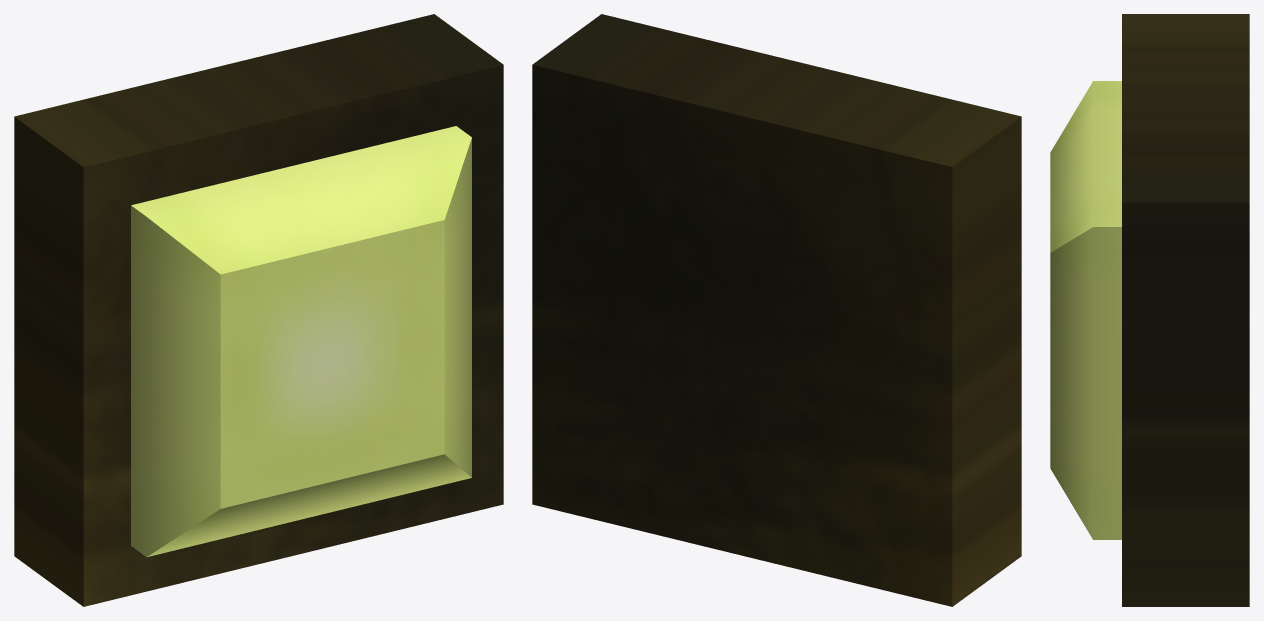
File: YellowButton.fbx
The picture shows the model from 3 angles, left to right: view 1: azimuth 30°, elevation 25°; view 2: azimuth 150°, elevation 25°; view 3: azimuth 270°, elevation 25°; orthographic projection. The views are drawn at different scales.
Parts seen in each view (by area): view 1: base1, lit1; view 2: base1; view 3: base1, lit1.
Part boxes in pixels (bbox=[...]): base1: bbox=[14, 14, 503, 606]; lit1: bbox=[131, 126, 471, 557]; base1: bbox=[532, 14, 1021, 606]; base1: bbox=[1122, 14, 1249, 606]; lit1: bbox=[1050, 81, 1121, 539].
Bounding box in the file's own units: 0.4559 × 0.4559 × 0.2036.
Materials: 1 (1 with a texture image).
